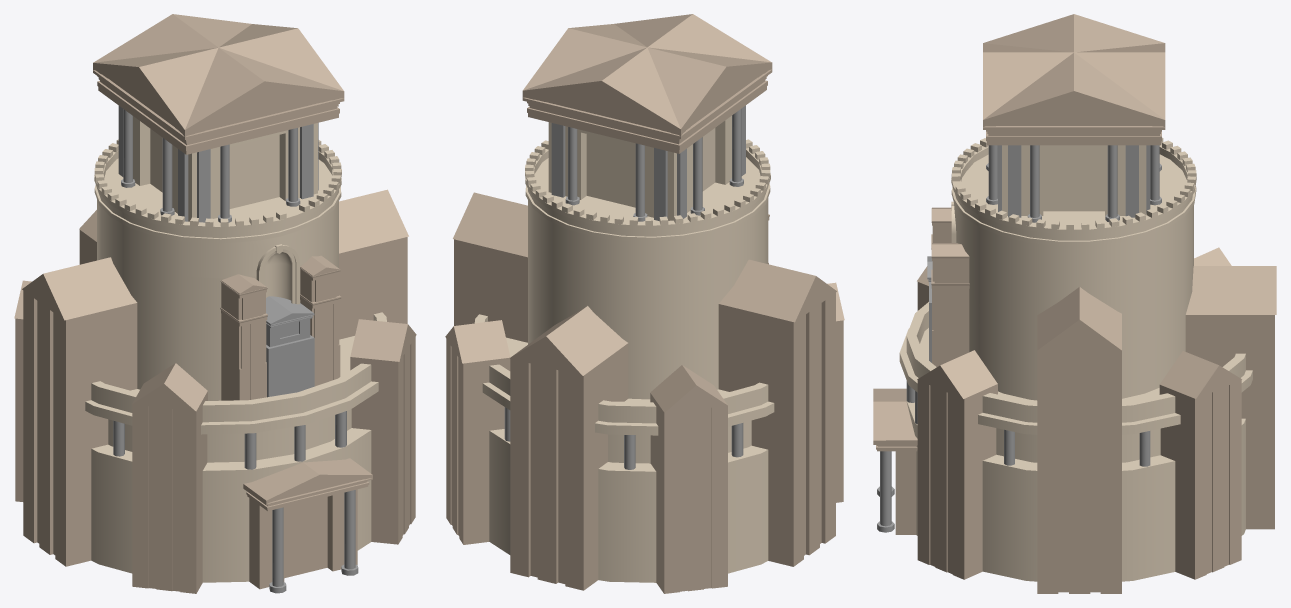
Rendered from Macedonia_building 1.fbx.
3 views of the same model, side by side, from view 1: azimuth 30°, elevation 25°; view 2: azimuth 150°, elevation 25°; view 3: azimuth 270°, elevation 25° (orthographic).
Visible parts, largest first — view 1: Macedonia_Castle2; view 2: Macedonia_Castle2; view 3: Macedonia_Castle2.
Part boxes in pixels (left/top/right/bottom): Macedonia_Castle2: left=14, top=14, right=416, bottom=593; Macedonia_Castle2: left=445, top=14, right=844, bottom=593; Macedonia_Castle2: left=873, top=14, right=1276, bottom=593.
Size of the model in its own units: 161 by 207 by 165.
